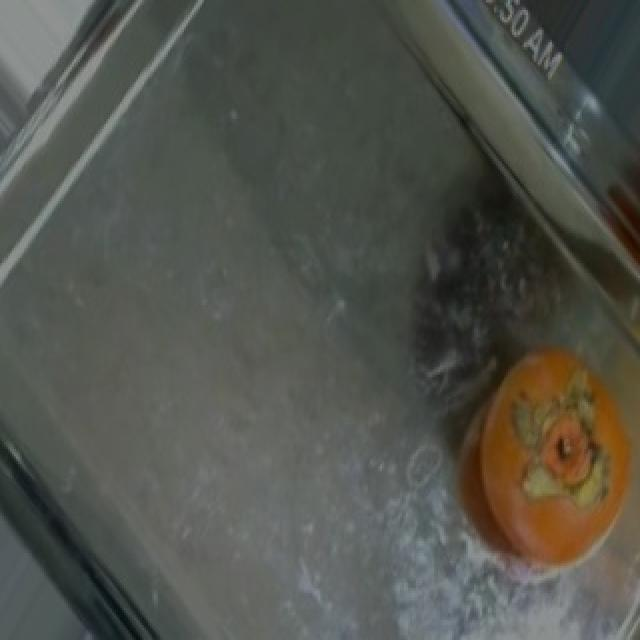Fruit: (436, 322, 628, 606)
